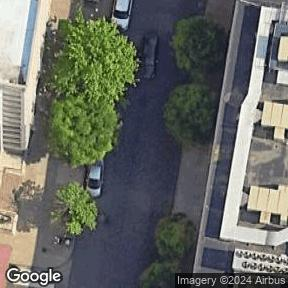vegetation: (38, 7, 145, 173), (159, 13, 228, 148), (137, 208, 204, 288), (56, 178, 104, 238)
